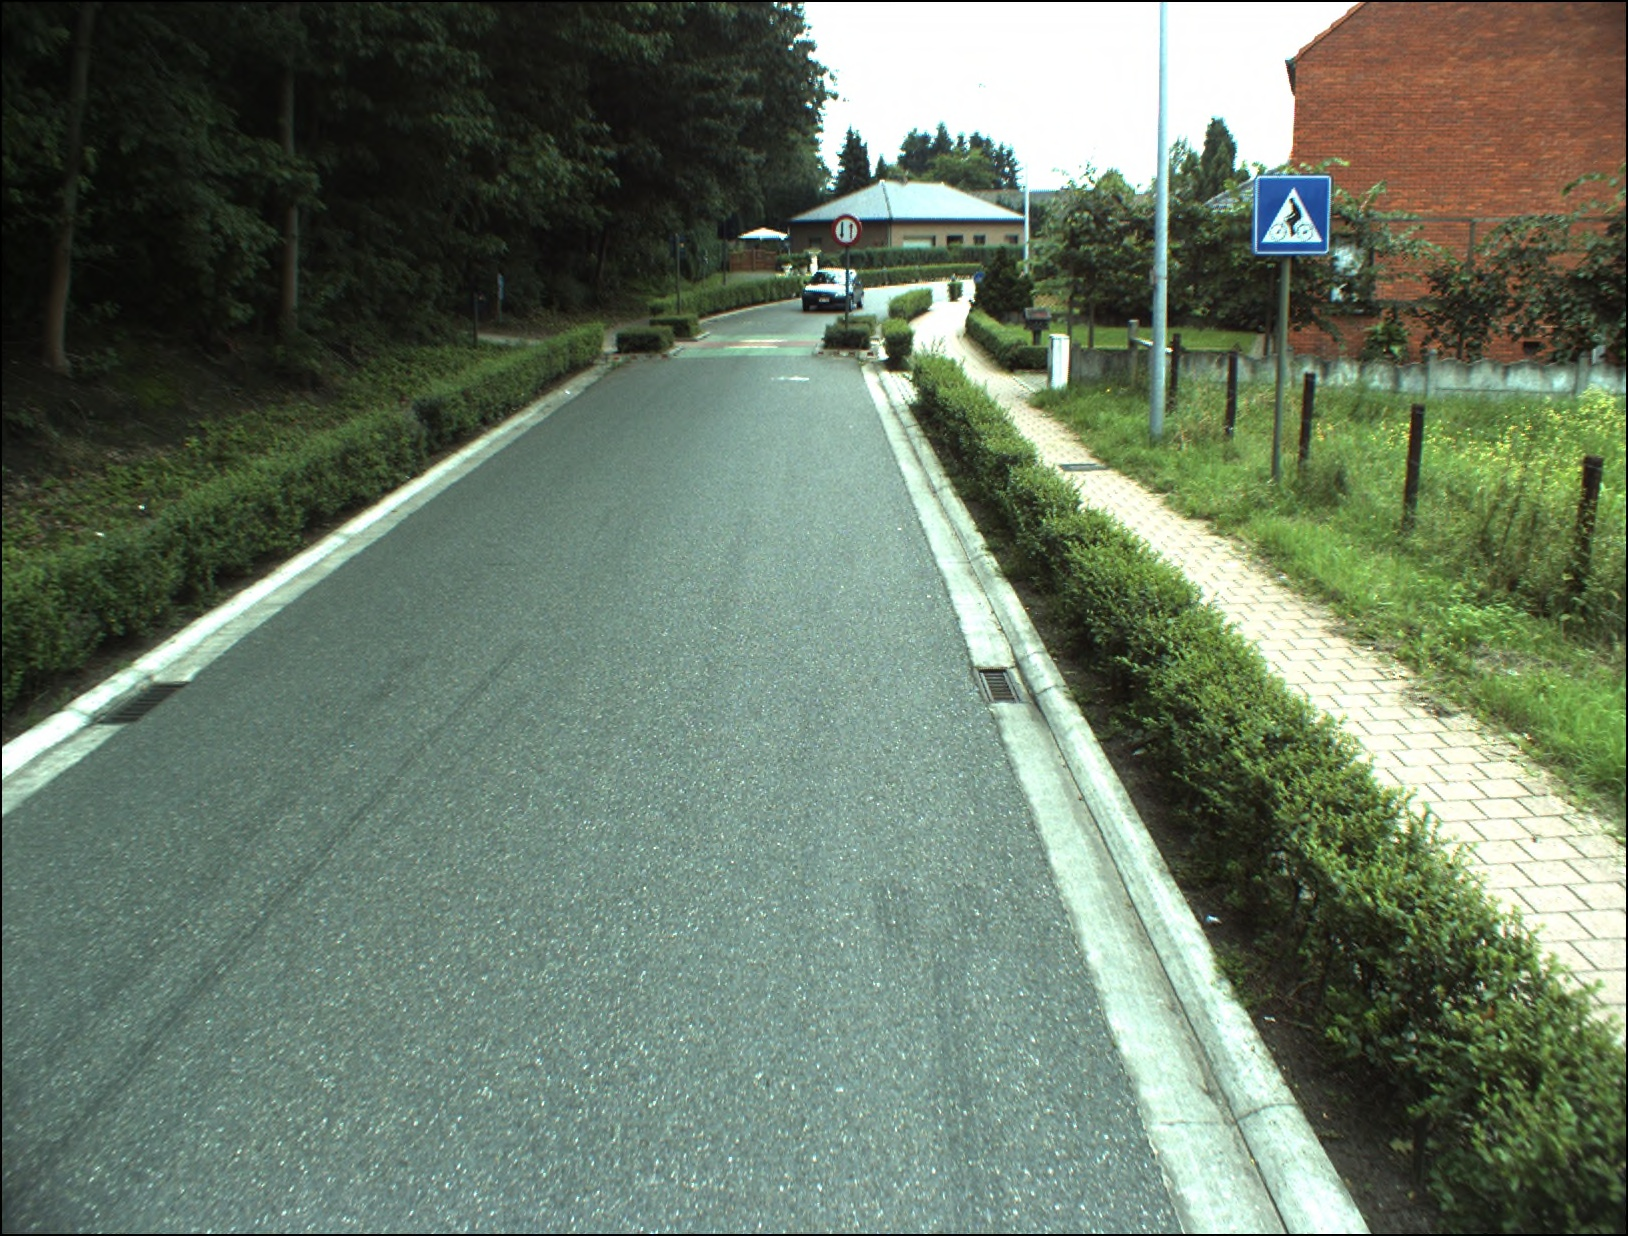roadnarrow2: (830, 216, 865, 247)
